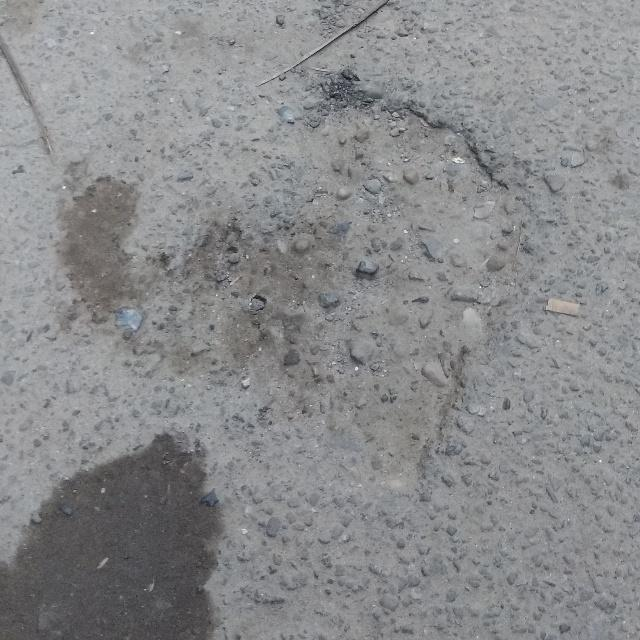Surface Erosion: (0, 14, 600, 488)
